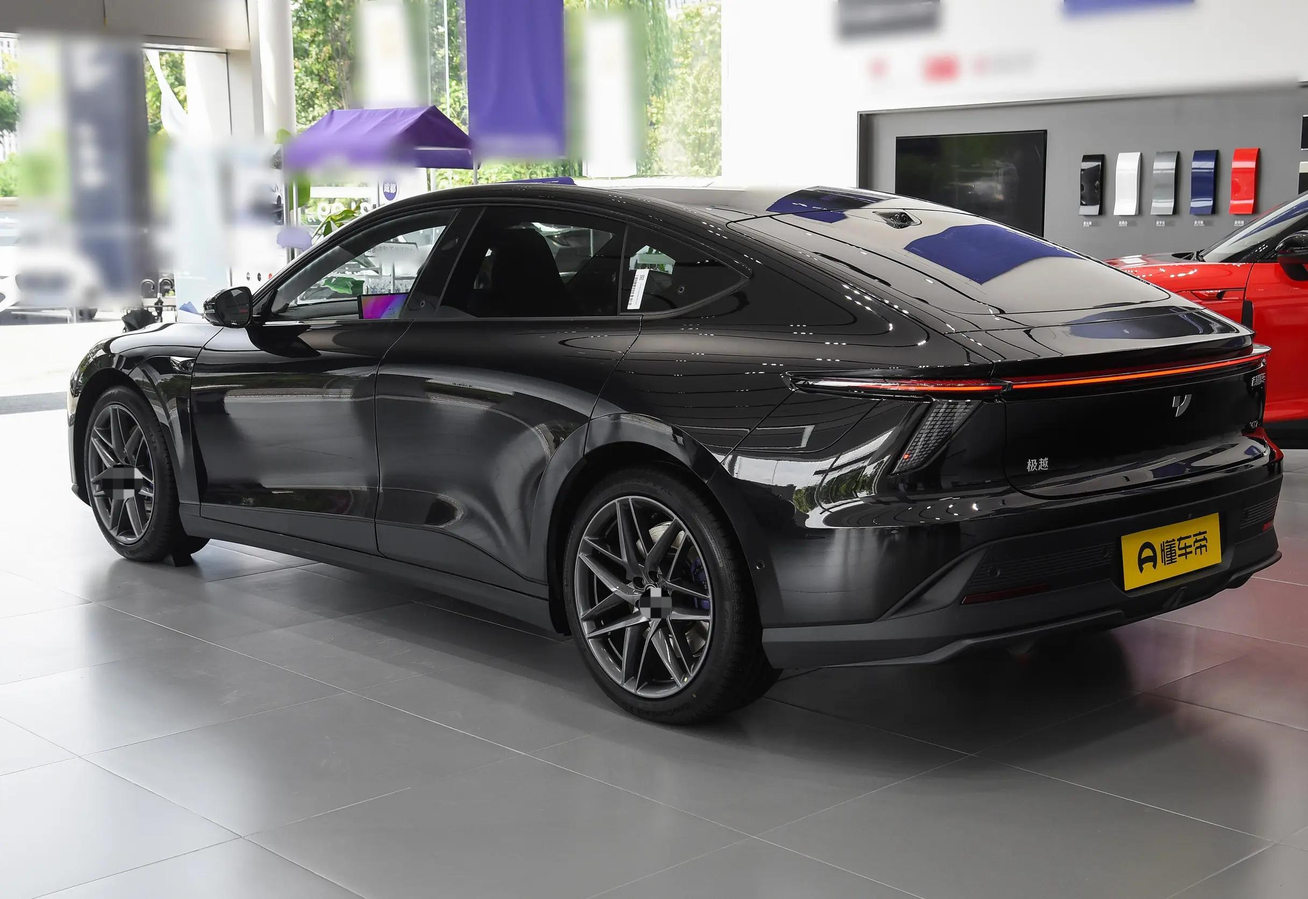JIYUE: (1173, 392, 1192, 418)
